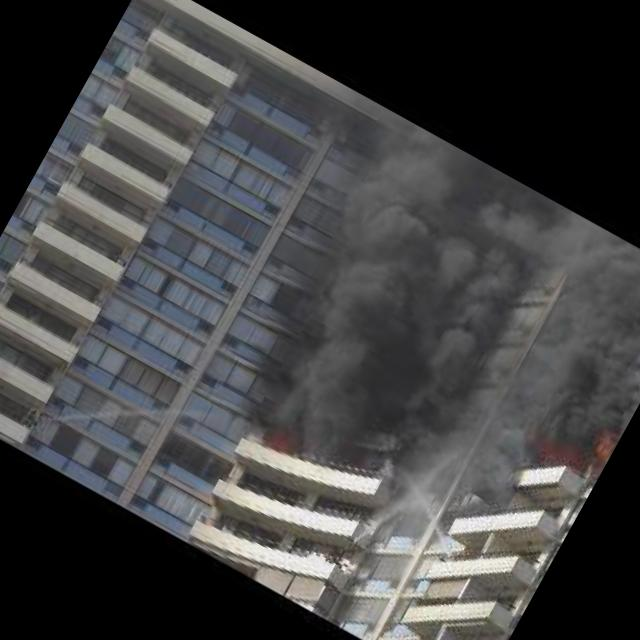fire: (591, 422, 622, 458)
smoke: (202, 92, 568, 502), (501, 219, 640, 468)
